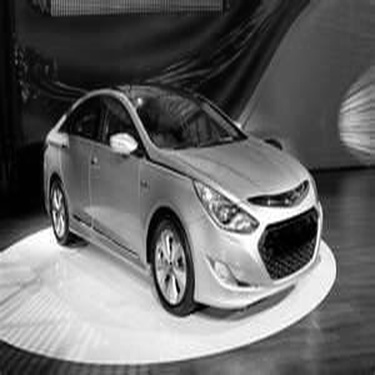car: (35, 73, 330, 323)
